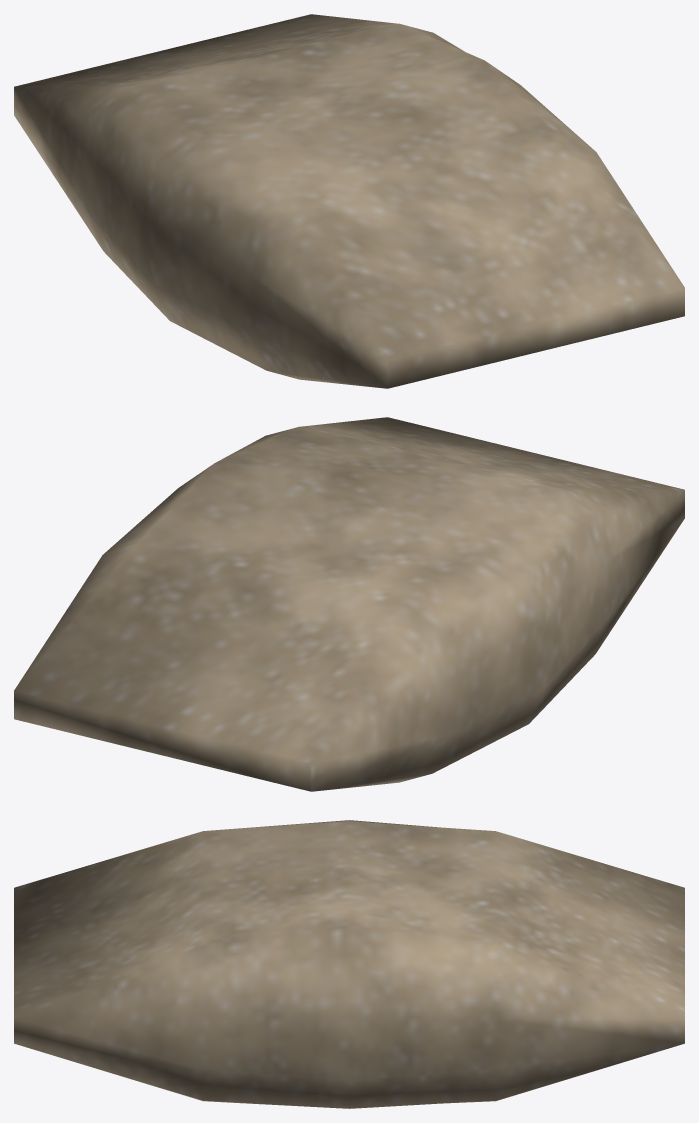
File: BAG_1.fbx
3 renders of one model, top to bottom at view 1: azimuth 30°, elevation 25°; view 2: azimuth 150°, elevation 25°; view 3: azimuth 270°, elevation 25°, orthographic. The views are drawn at different scales.
Parts seen in each view (by area): view 1: BAG_1_low; view 2: BAG_1_low; view 3: BAG_1_low.
Boxes of the visible parts, left/top/right/bottom form: BAG_1_low: left=14, top=14, right=684, bottom=388; BAG_1_low: left=14, top=417, right=684, bottom=791; BAG_1_low: left=14, top=820, right=684, bottom=1108.
Bounding box in the file's own units: 44.05 × 22.13 × 74.89.
